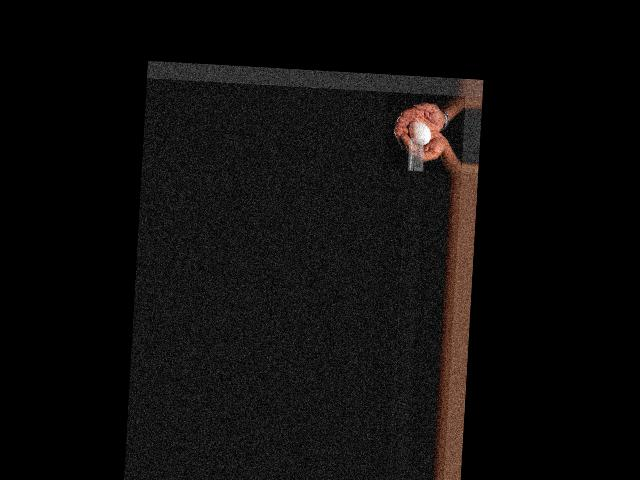egg: (407, 120, 431, 144)
